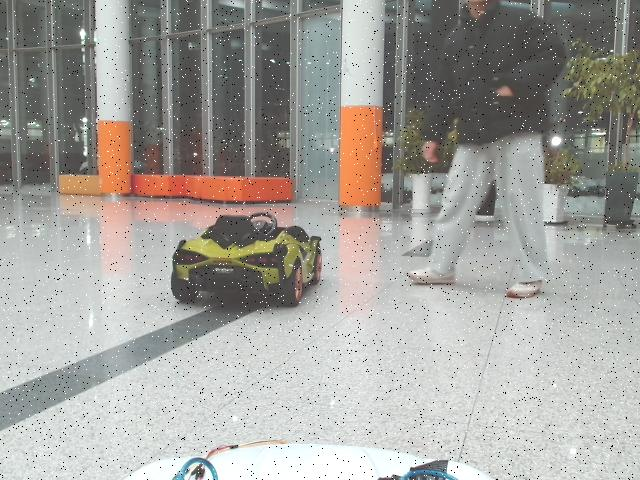car: (170, 213, 325, 307)
